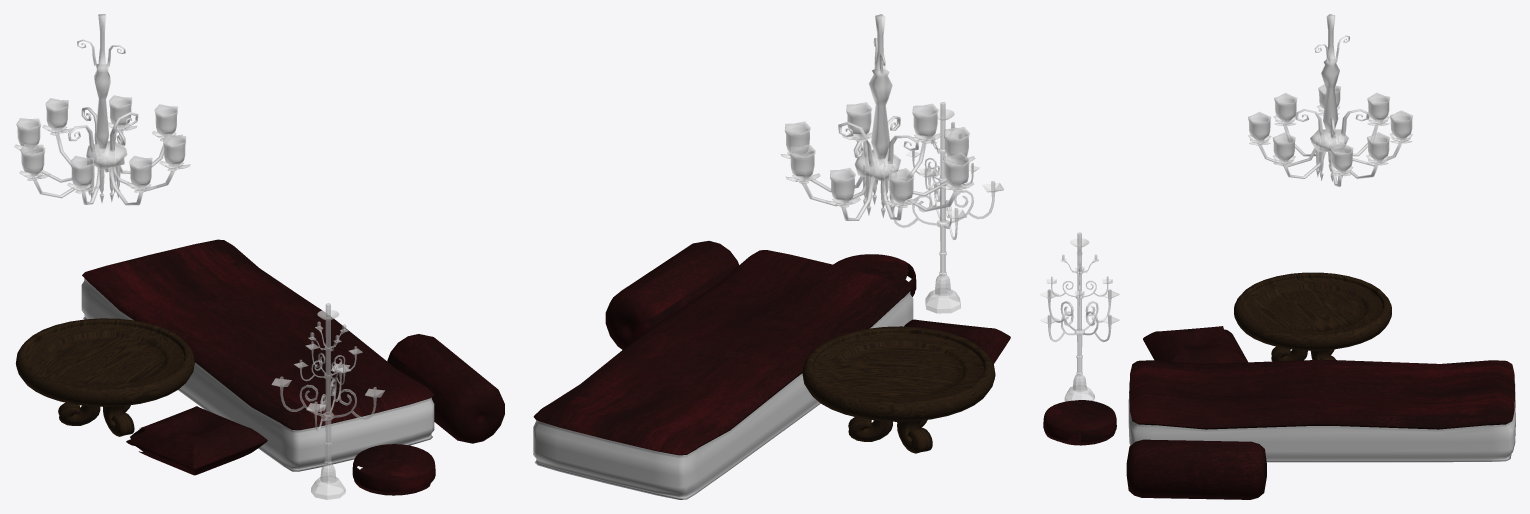
The model's file is assets.fbx.
3 views of the same model, side by side, from view 1: azimuth 30°, elevation 25°; view 2: azimuth 150°, elevation 25°; view 3: azimuth 270°, elevation 25° (orthographic). The views are drawn at different scales.
Parts seen in each view (by area): view 1: Cube.016, Cylinder.024, Plane.055, Cube.002, Cylinder.017, Cube.015, Cylinder.016, Cylinder.025; view 2: Cube.016, Cylinder.024, Cube.002, Plane.055, Cylinder.017, Cylinder.016, Cylinder.025, Cube.015; view 3: Cube.016, Cube.002, Cylinder.024, Plane.055, Cylinder.017, Cylinder.016, Cube.015, Cylinder.025.
Part boxes in pixels (<box>): Cube.016: <box>82,239,433,430</box>; Cylinder.024: <box>15,318,194,436</box>; Plane.055: <box>14,14,190,205</box>; Cube.002: <box>81,278,434,471</box>; Cylinder.017: <box>387,334,504,443</box>; Cube.015: <box>126,406,267,475</box>; Cylinder.016: <box>271,303,384,499</box>; Cylinder.025: <box>352,444,435,495</box>; Cube.016: <box>533,250,912,455</box>; Cylinder.024: <box>802,326,995,453</box>; Cube.002: <box>533,291,913,499</box>; Plane.055: <box>780,14,975,220</box>; Cylinder.017: <box>605,241,738,349</box>; Cylinder.016: <box>888,102,1003,313</box>; Cylinder.025: <box>833,254,916,296</box>; Cube.015: <box>904,319,1010,363</box>; Cube.016: <box>1129,360,1514,429</box>; Cube.002: <box>1128,380,1515,462</box>; Cylinder.024: <box>1234,272,1391,361</box>; Plane.055: <box>1248,14,1412,186</box>; Cylinder.017: <box>1126,439,1266,499</box>; Cylinder.016: <box>1039,232,1119,401</box>; Cube.015: <box>1143,326,1247,363</box>; Cylinder.025: <box>1043,400,1116,445</box>.
Bounding box in the file's own units: 1035 × 1067 × 1264.
